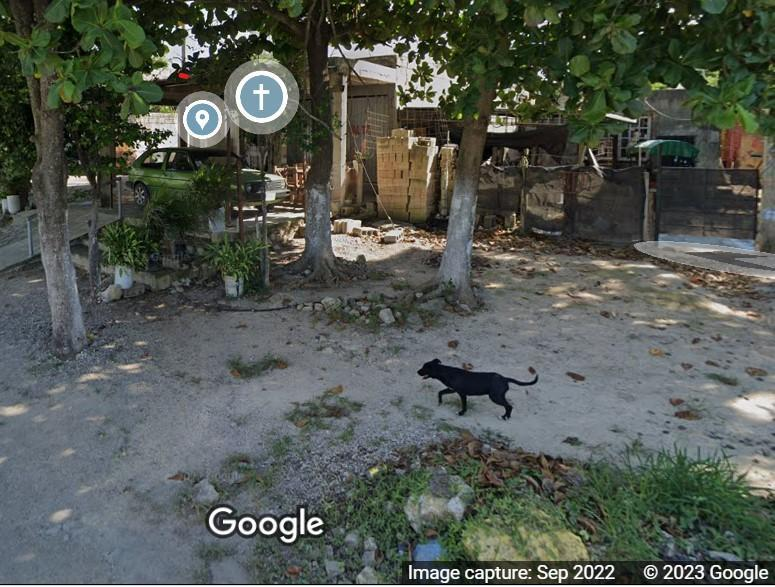normal_dogs: (412, 356, 546, 426)
